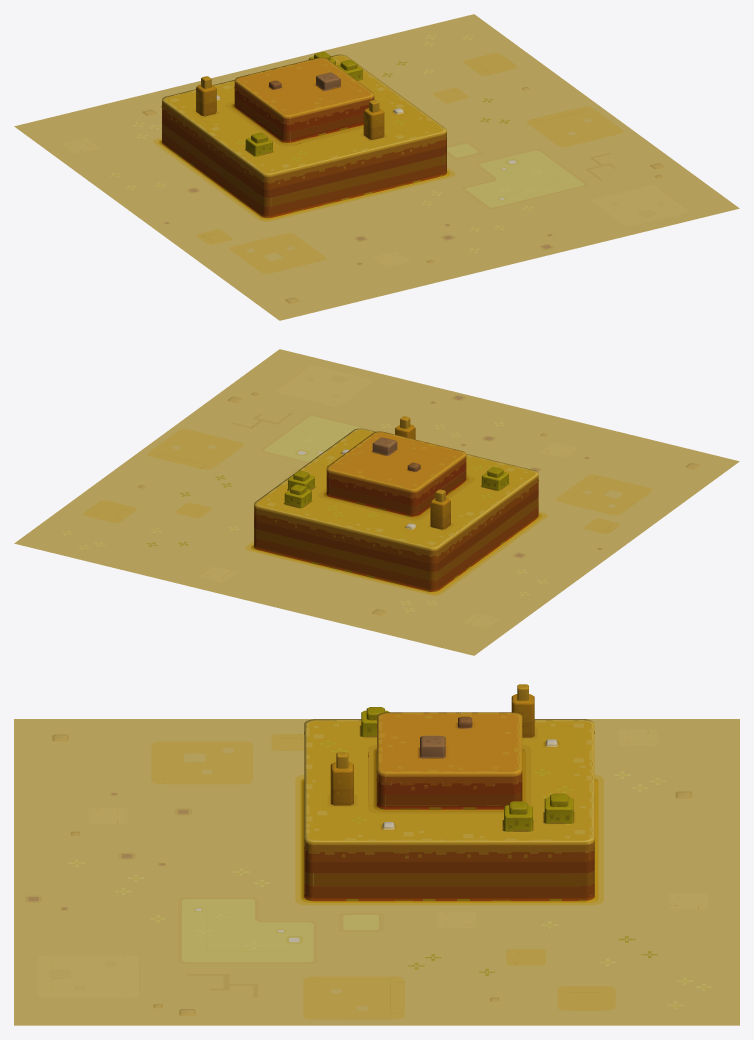
The model's file is C_mountain1_02.fbx.
The picture shows the model from 3 angles, top to bottom: view 1: azimuth 30°, elevation 25°; view 2: azimuth 150°, elevation 25°; view 3: azimuth 270°, elevation 25°; orthographic projection. The views are drawn at different scales.
Parts seen in each view (by area): view 1: C_mountain1_02; view 2: C_mountain1_02; view 3: C_mountain1_02.
Part boxes in pixels (x1,y1,x2,y2): C_mountain1_02: (14, 14, 739, 320); C_mountain1_02: (14, 349, 739, 655); C_mountain1_02: (14, 684, 739, 1025).
Size of the model in its own units: 50 by 8.59 by 50.
Materials: 1 (1 with a texture image).
